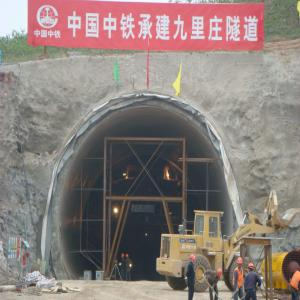red: (238, 258, 244, 269), (249, 264, 255, 273), (217, 270, 223, 279), (191, 256, 196, 265), (122, 254, 126, 260), (126, 255, 130, 260)
